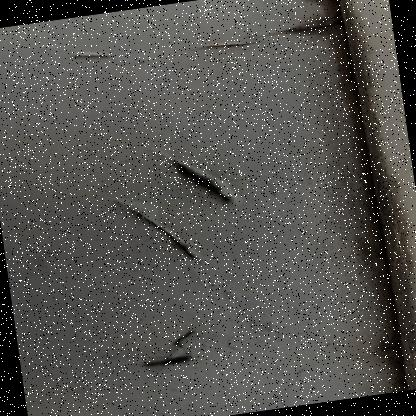Crack: (323, 51, 415, 395), (87, 122, 272, 292), (45, 0, 376, 92), (130, 320, 232, 384)
